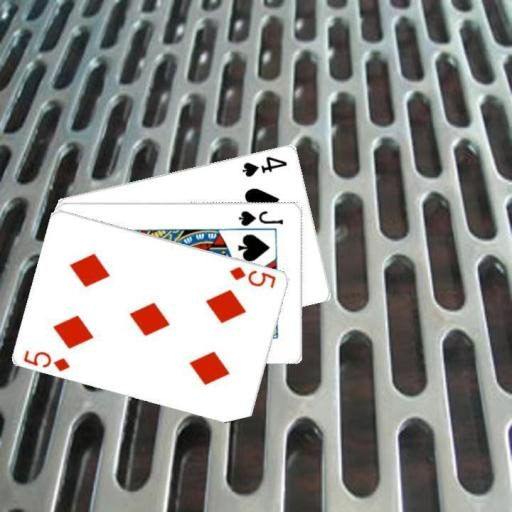card-corner: (227, 262, 278, 290), (20, 347, 72, 373), (239, 152, 289, 179), (236, 207, 284, 227)
